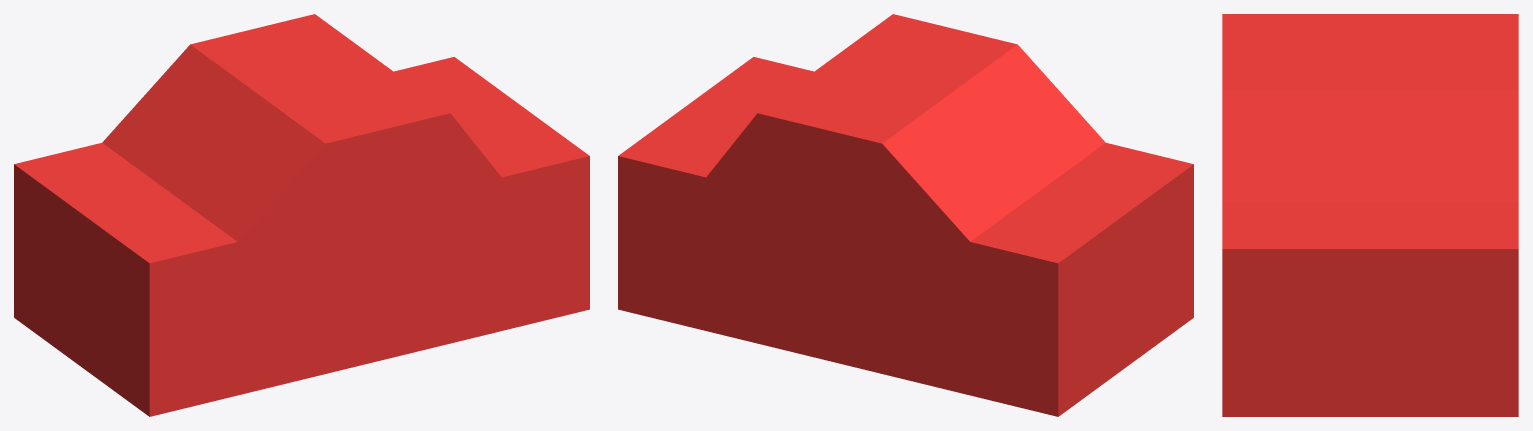
Rendered from fire.fbx.
3 renders of one model, left to right at view 1: azimuth 30°, elevation 25°; view 2: azimuth 150°, elevation 25°; view 3: azimuth 270°, elevation 25°, orthographic. The views are drawn at different scales.
Parts seen in each view (by area): view 1: Cube; view 2: Cube; view 3: Cube.
Boxes of the visible parts, bbox=[...] form: Cube: bbox=[14, 14, 589, 416]; Cube: bbox=[618, 14, 1193, 416]; Cube: bbox=[1222, 14, 1518, 416].
Bounding box in the file's own units: 30 × 15 × 16.
